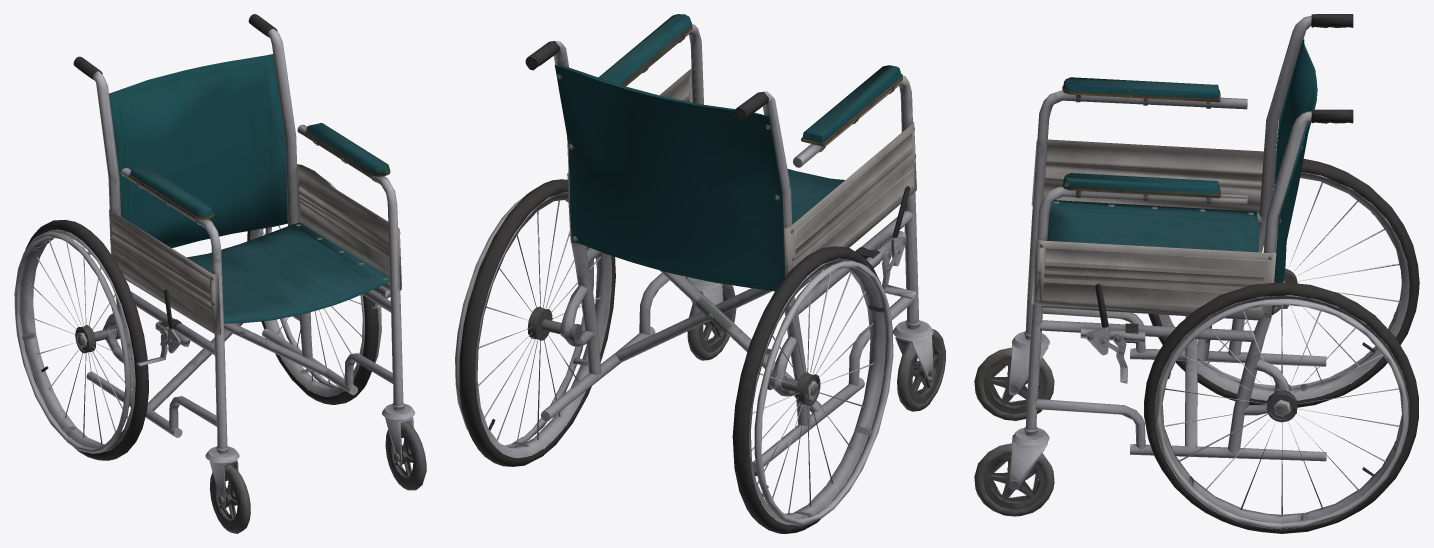
The model's file is ph_wheelchair_01.glb.
3 views of the same model, side by side, from view 1: azimuth 30°, elevation 25°; view 2: azimuth 150°, elevation 25°; view 3: azimuth 270°, elevation 25° (orthographic). The views are drawn at different scales.
Parts seen in each view (by area): view 1: wheelchair_01; view 2: wheelchair_01; view 3: wheelchair_01.
Part boxes in pixels (x1=…): wheelchair_01: x1=14, y1=14, x2=426, y2=533; wheelchair_01: x1=455, y1=14, x2=945, y2=533; wheelchair_01: x1=974, y1=14, x2=1419, y2=533.
Bounding box in the file's own units: 0.8242 × 1.1 × 1.09.
Materials: 1 (1 with a texture image).
